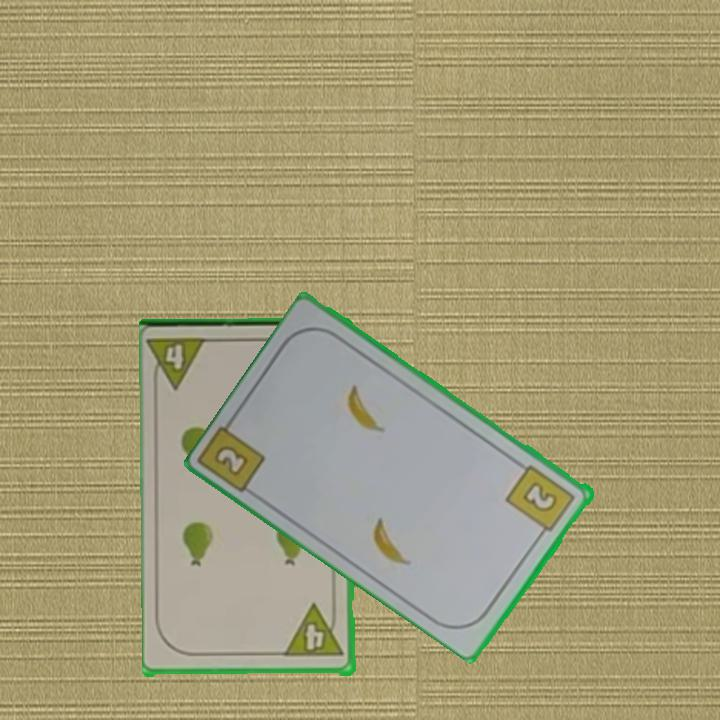2b: (503, 461, 579, 541), (214, 444, 248, 476)
4p: (147, 334, 212, 393), (282, 603, 347, 661)
